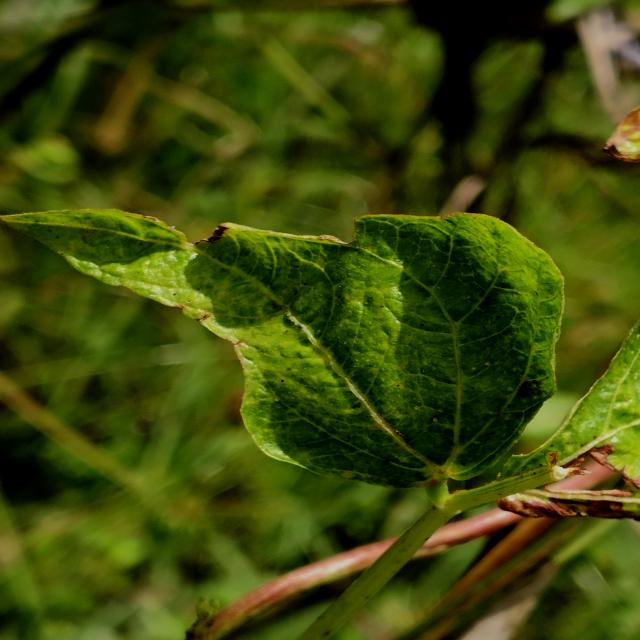sitaw-aphid-high: (1, 209, 564, 487)
